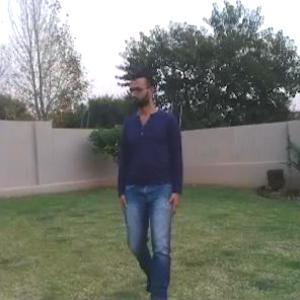follow: (108, 50, 189, 299)
